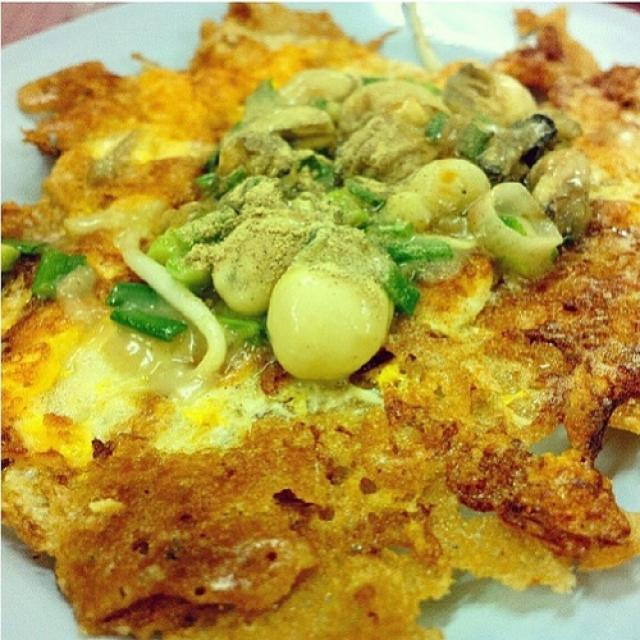炸货点心: (13, 13, 626, 636)
蛋糕甜品: (13, 13, 626, 636)
